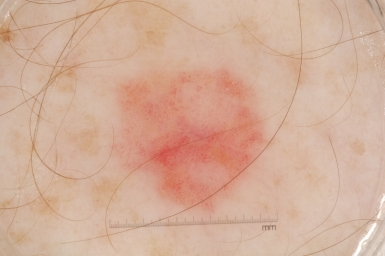seborrheic keratosis: (104, 57, 280, 220)
